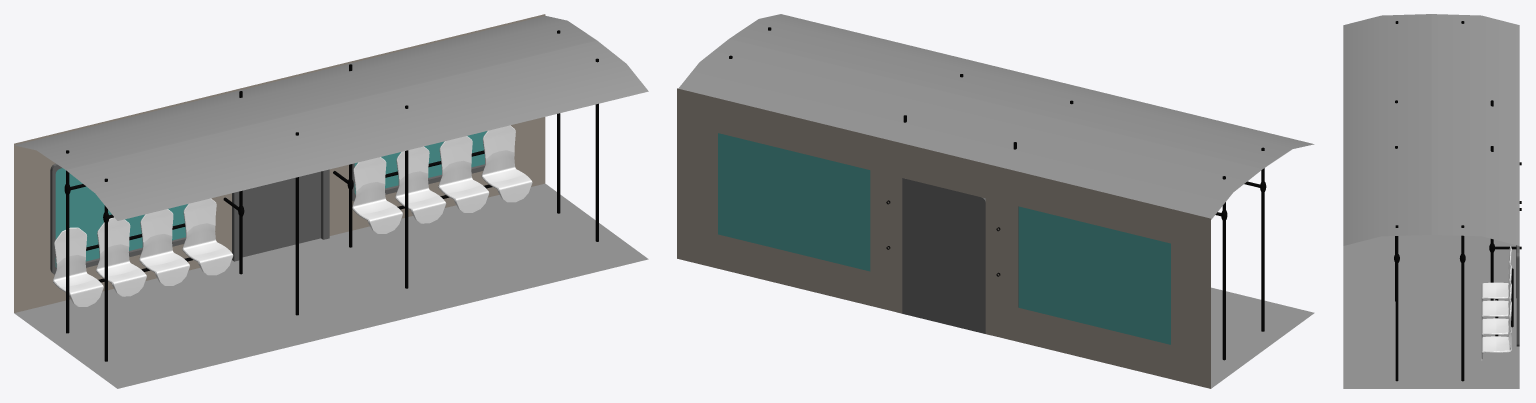
Rendered from Bus.fbx.
3 renders of one model, left to right at view 1: azimuth 30°, elevation 25°; view 2: azimuth 150°, elevation 25°; view 3: azimuth 270°, elevation 25°, orthographic. The views are drawn at different scales.
Parts seen in each view (by area): view 1: Bus_FR, Bus_Chairs1, Bus_Walls, Bus_Frames, Glass_Window, Bus_MFrames02, Bus_MFrames01; view 2: Bus_FR, Bus_Walls, Glass_Window, Bus_Frames, Bus_MFrames02; view 3: Bus_FR, Bus_Chairs1, Bus_MFrames01, Bus_Frames.
Boxes of the visible parts, x1=… form: Bus_FR: x1=14, y1=15, x2=648, y2=388; Bus_Chairs1: x1=53, y1=125, x2=532, y2=306; Bus_Walls: x1=14, y1=14, x2=545, y2=312; Bus_Frames: x1=50, y1=163, x2=484, y2=274; Glass_Window: x1=55, y1=131, x2=487, y2=267; Bus_MFrames02: x1=64, y1=91, x2=298, y2=361; Bus_MFrames01: x1=333, y1=30, x2=598, y2=288; Bus_FR: x1=678, y1=14, x2=1314, y2=388; Bus_Walls: x1=677, y1=88, x2=1210, y2=388; Glass_Window: x1=718, y1=133, x2=1170, y2=344; Bus_Frames: x1=901, y1=178, x2=1018, y2=334; Bus_MFrames02: x1=996, y1=100, x2=1266, y2=360; Bus_FR: x1=1343, y1=14, x2=1519, y2=388; Bus_Chairs1: x1=1481, y1=246, x2=1511, y2=360; Bus_MFrames01: x1=1394, y1=146, x2=1521, y2=381; Bus_Frames: x1=1516, y1=245, x2=1519, y2=346.
Bounding box in the file's own units: 16.01 × 5.33 × 5.46.
